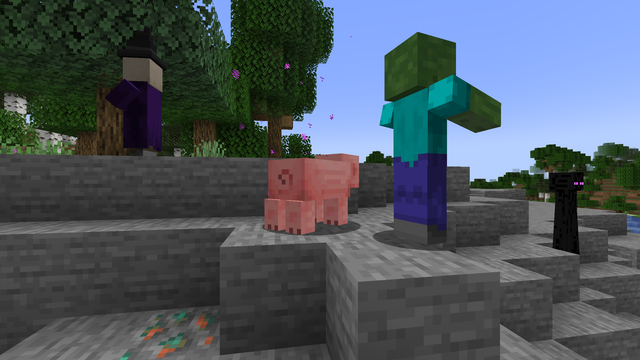cochons: (278, 156, 352, 232)
endermens: (544, 168, 588, 283)
sorcieres: (116, 50, 165, 137)
zombies: (380, 36, 463, 247)
